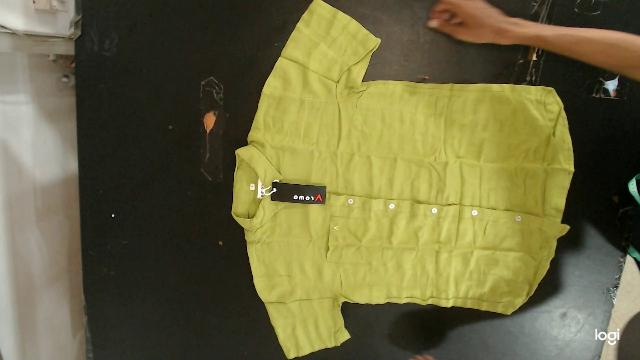new-garment: (232, 0, 574, 358)
